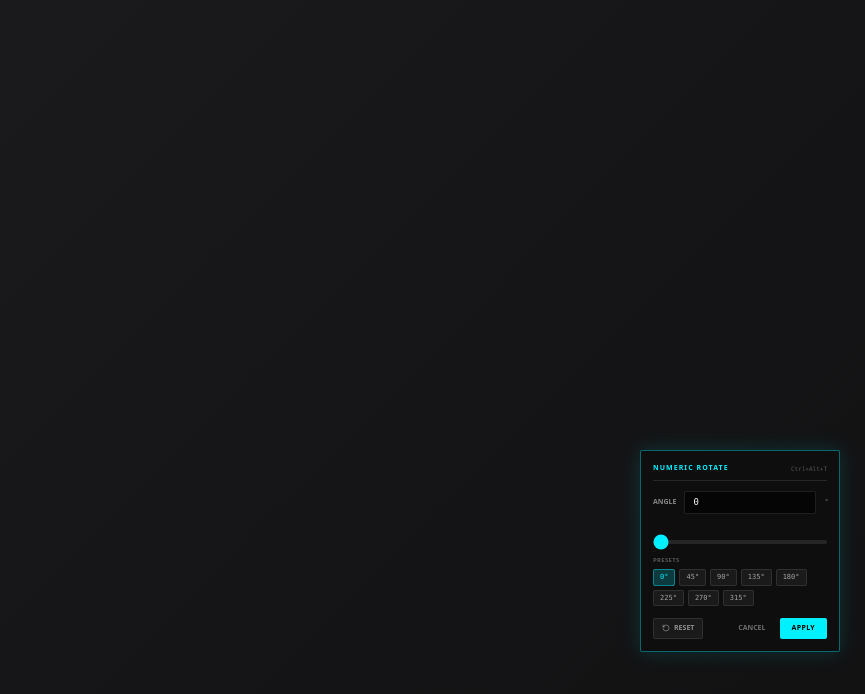
Test: NumericRotatePopover — validation › should show error for invalid angle input
Replace the text in the field named "Rotation angle in degrees" with "abc" at (750, 502), box [684,490,816,514]
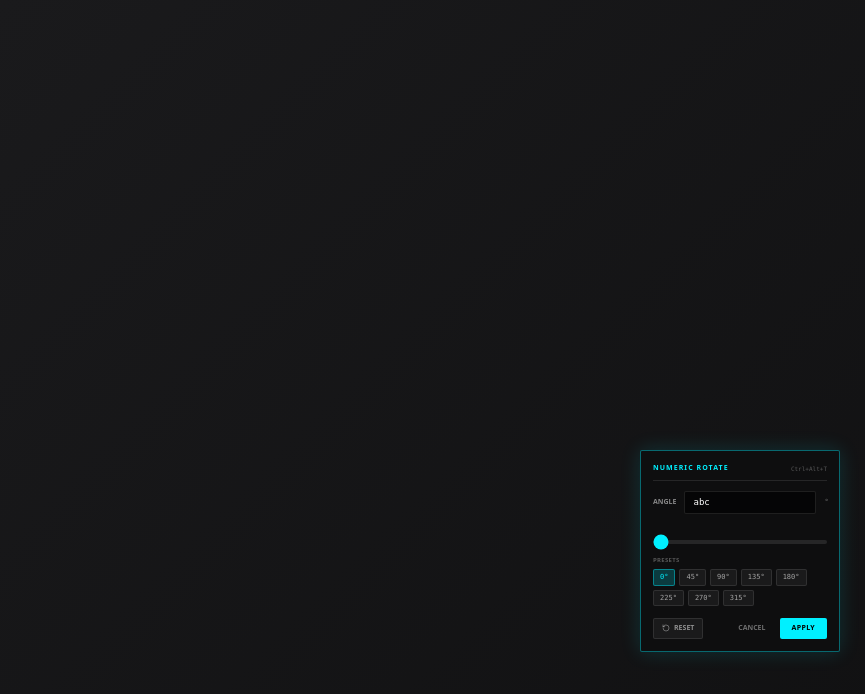
Click the button "Apply" at (803, 628), box [780,618,827,638]
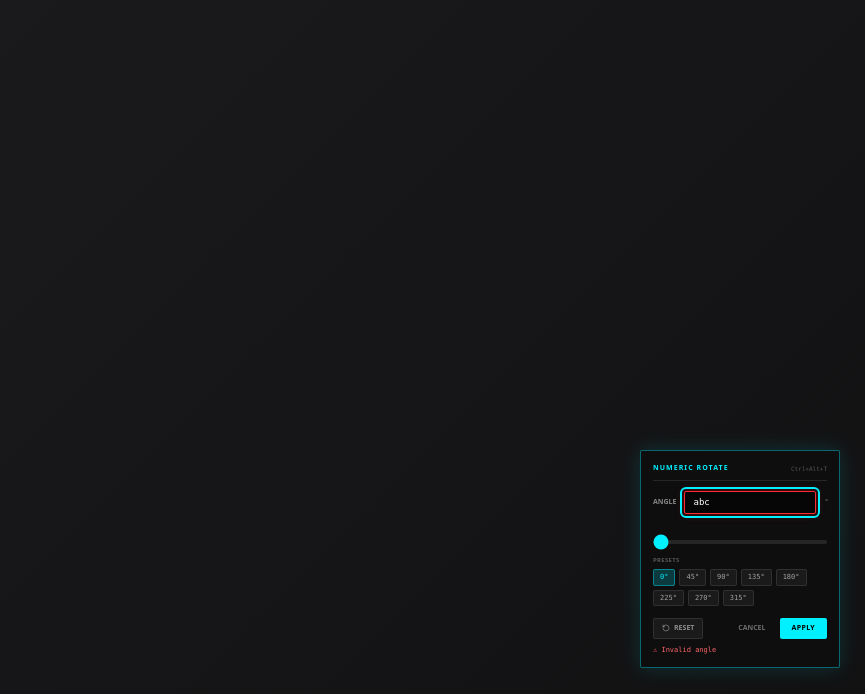
Check: the text "⚠ Invalid angle" is shown, box [653,646,716,654]
